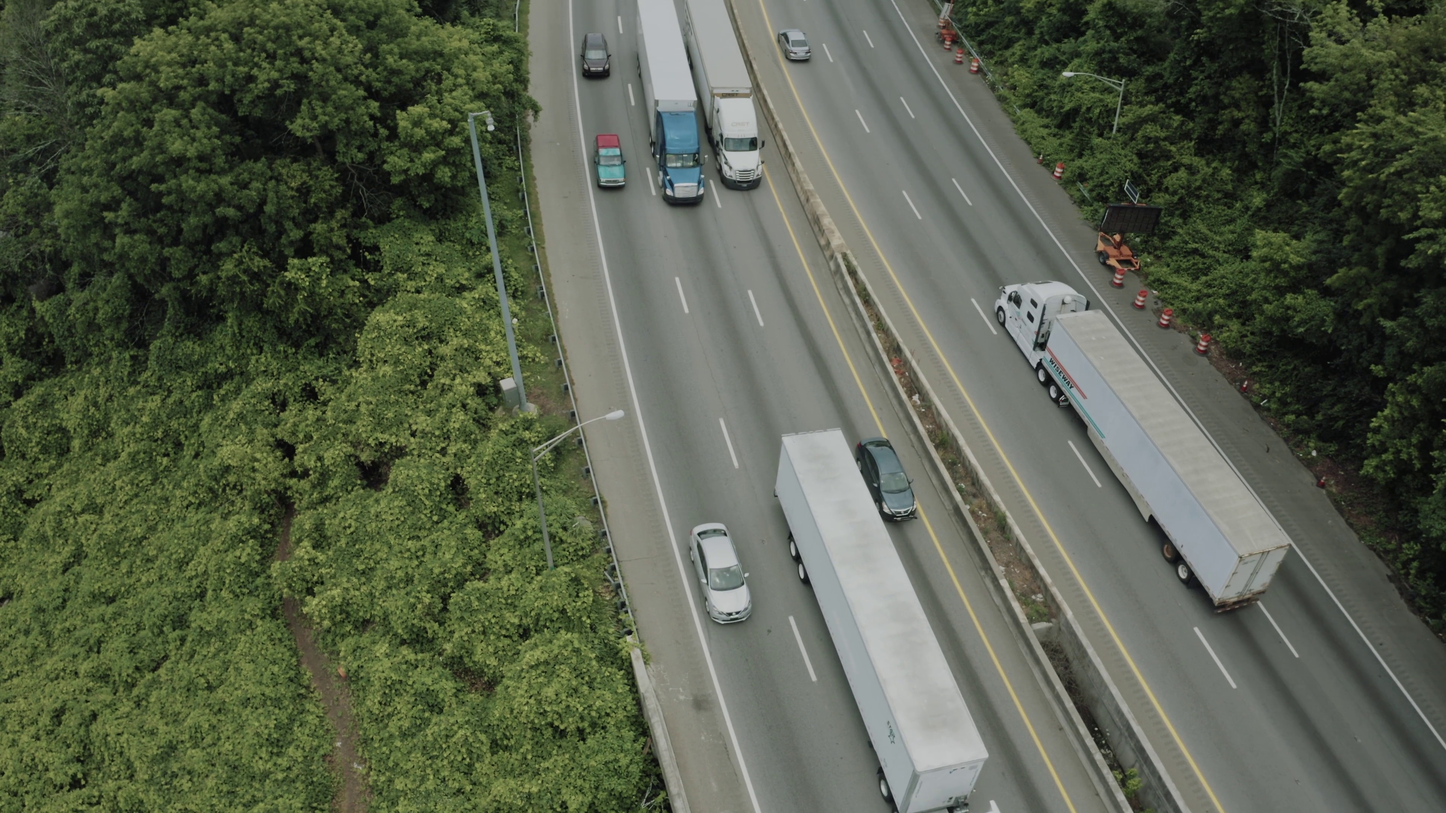Vehicle: (994, 280, 1094, 366), (689, 522, 752, 625), (651, 107, 707, 217), (710, 92, 766, 193), (855, 437, 917, 522), (593, 133, 626, 189), (580, 33, 611, 78), (777, 28, 812, 61)
